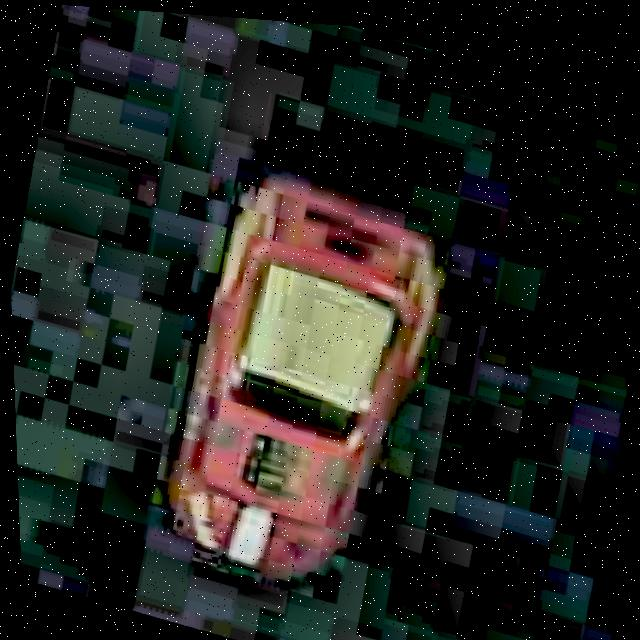car: (125, 136, 478, 630)
